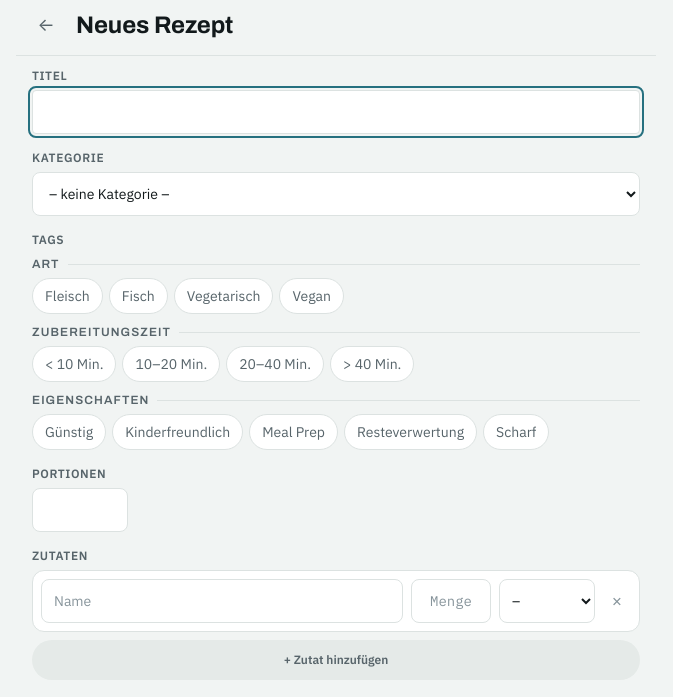
Scenario: RecipeForm — creating › adds and removes ingredient rows
The width and height of the screenshot is (673, 697).
Click the button "+ Zutat hinzufügen" at (336, 660), box [32,640,640,680]
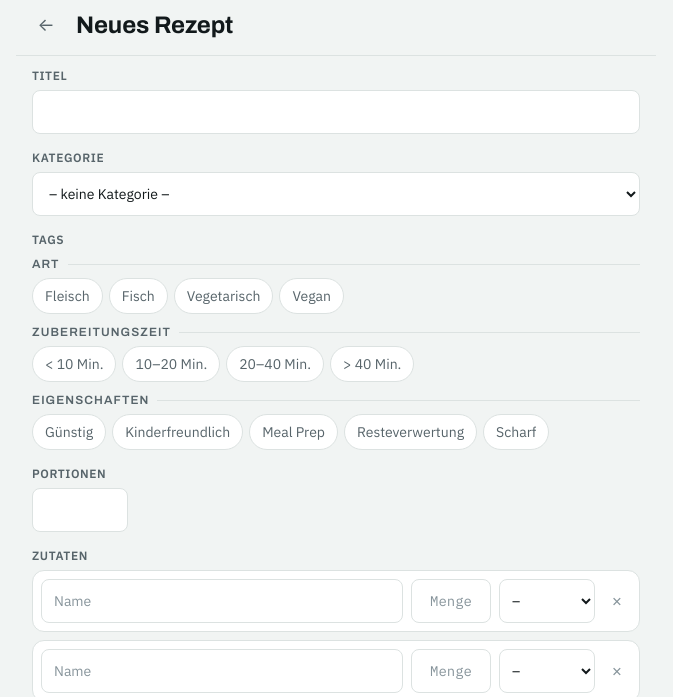
Expected: the number of fields named "Zutat" is 2, [41,579,403,623]; [41,649,403,693]
Click the button named "Zutat entfernen" at (617, 601), box [603,579,631,623]
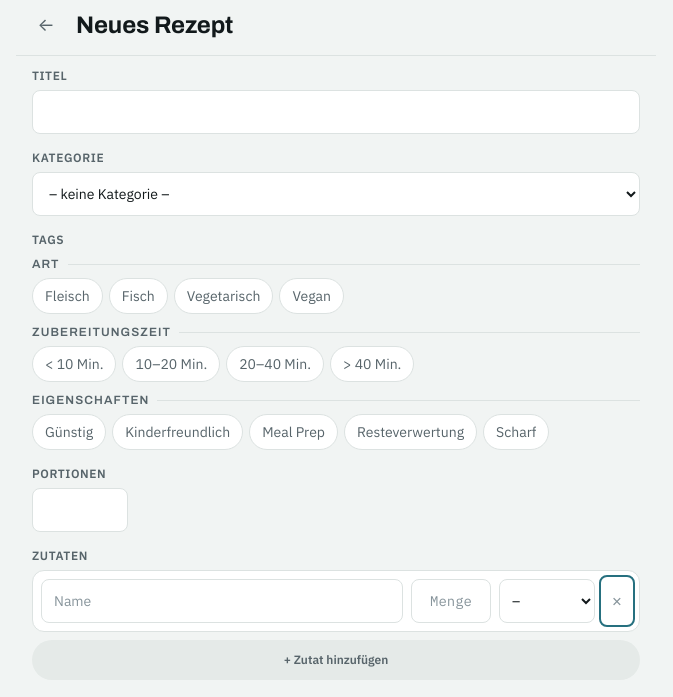
Expected: the number of fields named "Zutat" is 1, [41,579,403,623]
